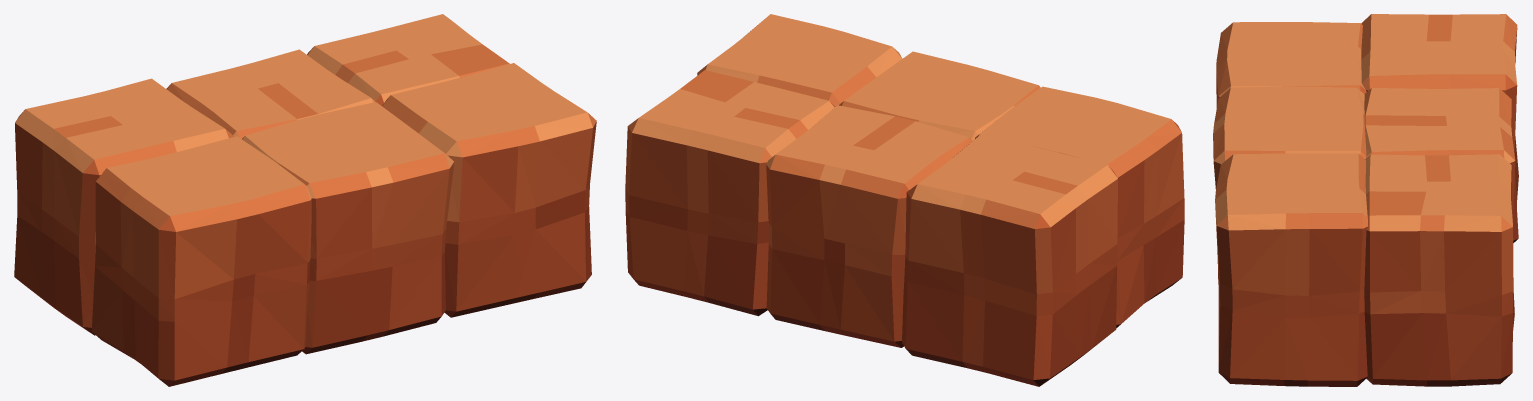
File: SM_ROCK_BLOCK_09.fbx
3 views of the same model, side by side, from view 1: azimuth 30°, elevation 25°; view 2: azimuth 150°, elevation 25°; view 3: azimuth 270°, elevation 25° (orthographic). The views are drawn at different scales.
Parts seen in each view (by area): view 1: ROCK_BLOCK_09; view 2: ROCK_BLOCK_09; view 3: ROCK_BLOCK_09.
Boxes of the visible parts, bbox=[...] form: ROCK_BLOCK_09: bbox=[14, 14, 596, 386]; ROCK_BLOCK_09: bbox=[625, 14, 1184, 386]; ROCK_BLOCK_09: bbox=[1213, 14, 1518, 386].
Bounding box in the file's own units: 2.09 × 1.28 × 0.7961.
